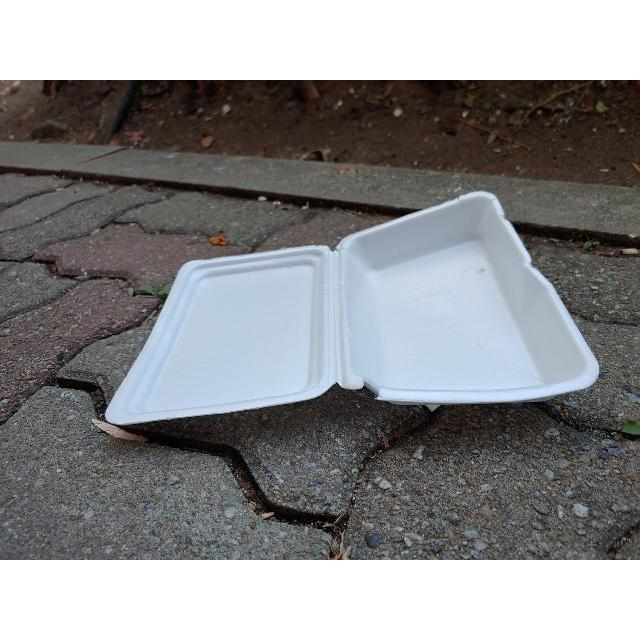Recipiente plastico: (106, 191, 599, 424)
